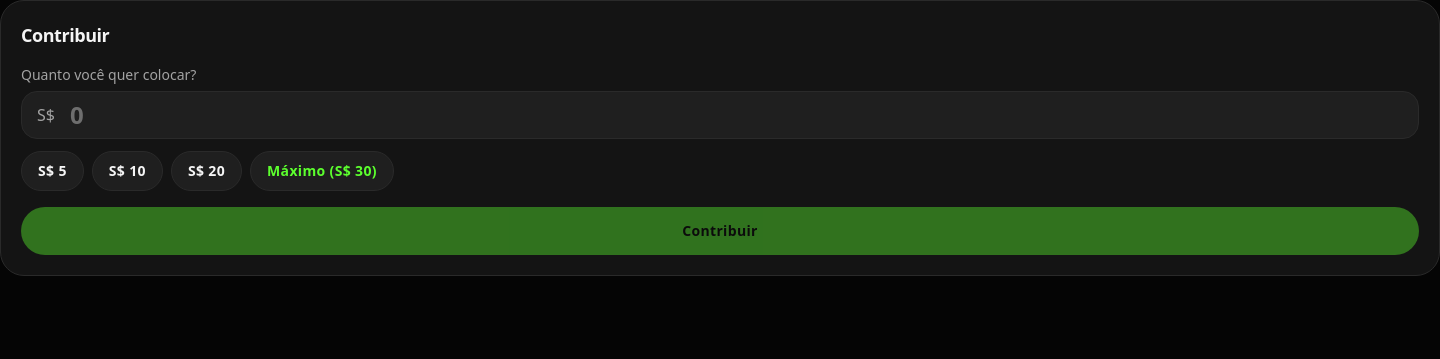
Test: <FormContribuir> › pede confirmação, avisa que não dá para retirar e envia com chave de idempotência
This screenshot has width=1440, height=359.
Click the button "S$ 10".
click(127, 171)  # box [92, 151, 163, 191]
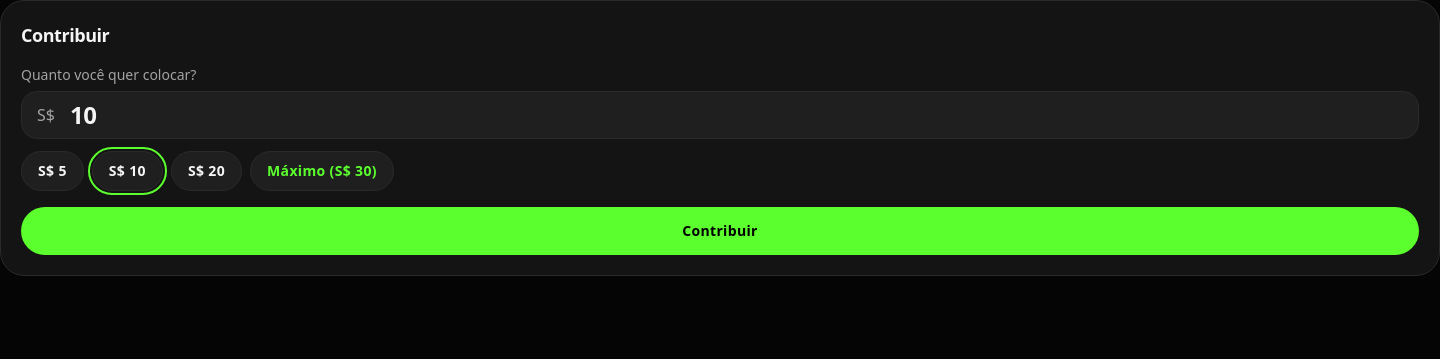
Click the button "Contribuir".
click(720, 231)  # box [21, 207, 1419, 255]
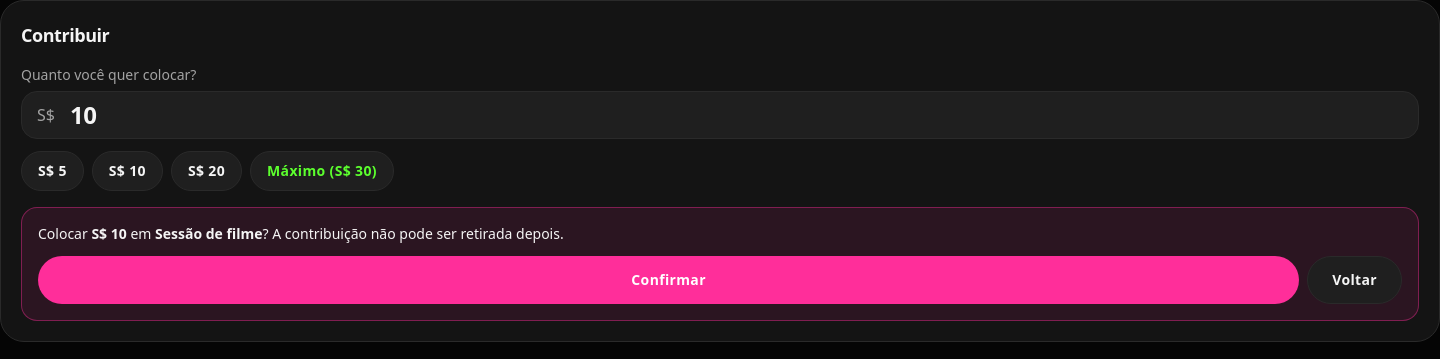
Expected: the text "não pode ser retirada" is shown, [262, 224, 564, 243]
Click the button "Confirmar".
click(669, 280)  # box [38, 256, 1299, 304]
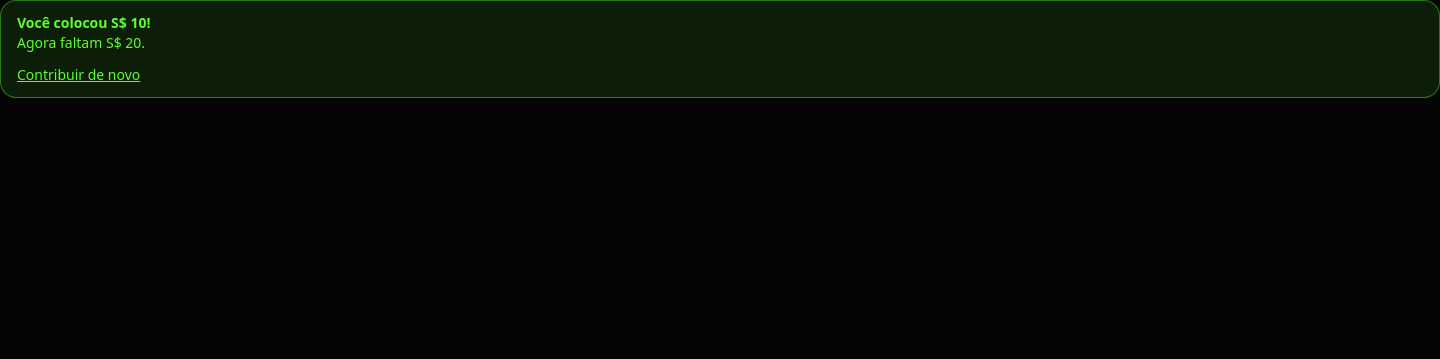
Expected: the text "Você colocou S$ 10!" is shown, [17, 13, 150, 32]
